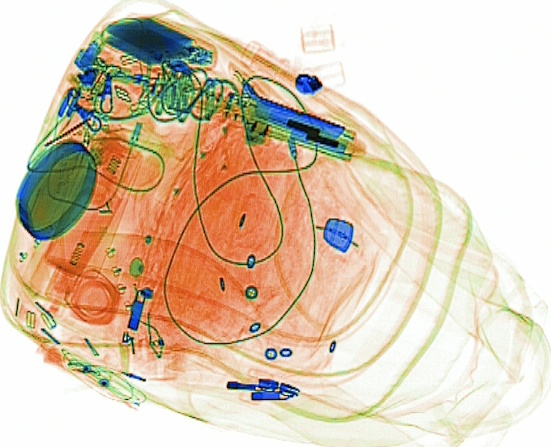powerbank: (101, 12, 219, 73)
